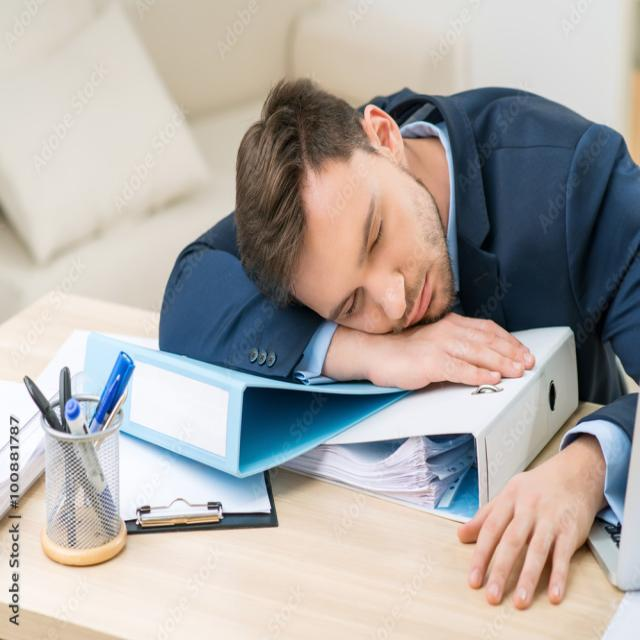Sleepy: (304, 156, 452, 328)
